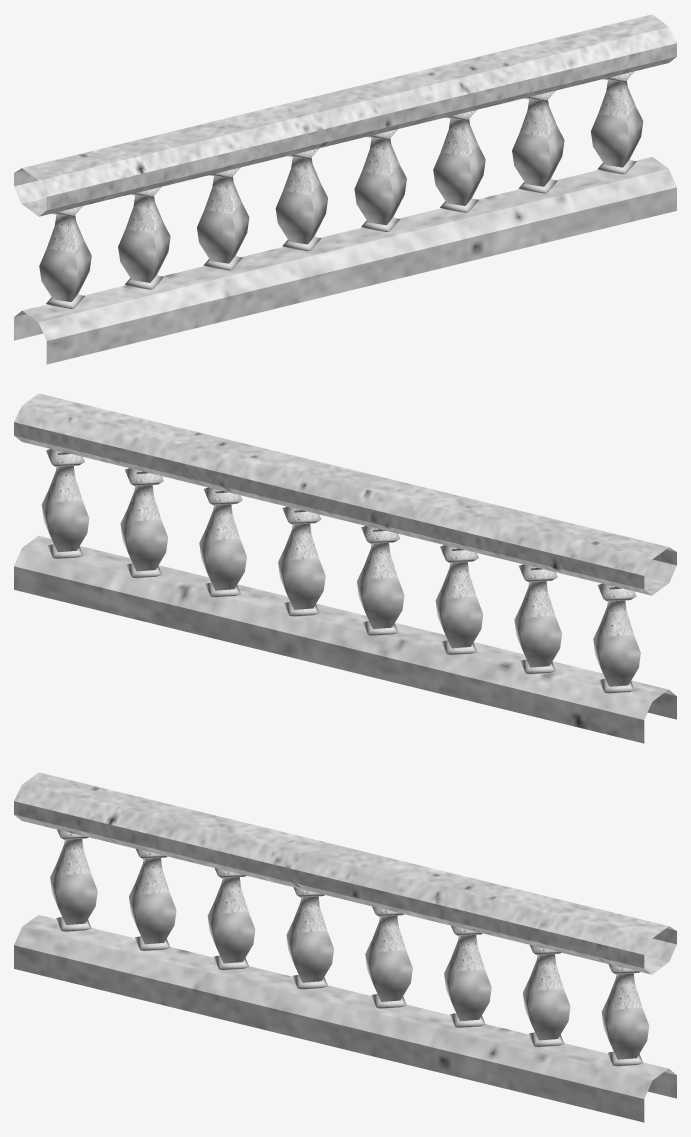
File: railing-01.glb
3 renders of one model, top to bottom at view 1: azimuth 30°, elevation 25°; view 2: azimuth 150°, elevation 25°; view 3: azimuth 330°, elevation 25°, orthographic.
Parts seen in each view (by area): view 1: Railing_01; view 2: Railing_01; view 3: Railing_01.
Boxes of the visible parts, left/top/right/bottom form: Railing_01: left=14, top=14, right=676, bottom=364; Railing_01: left=14, top=393, right=676, bottom=743; Railing_01: left=14, top=772, right=676, bottom=1122.
Bounding box in the file's own units: 4 × 1.08 × 0.3848.
1 material, 1 textured.
